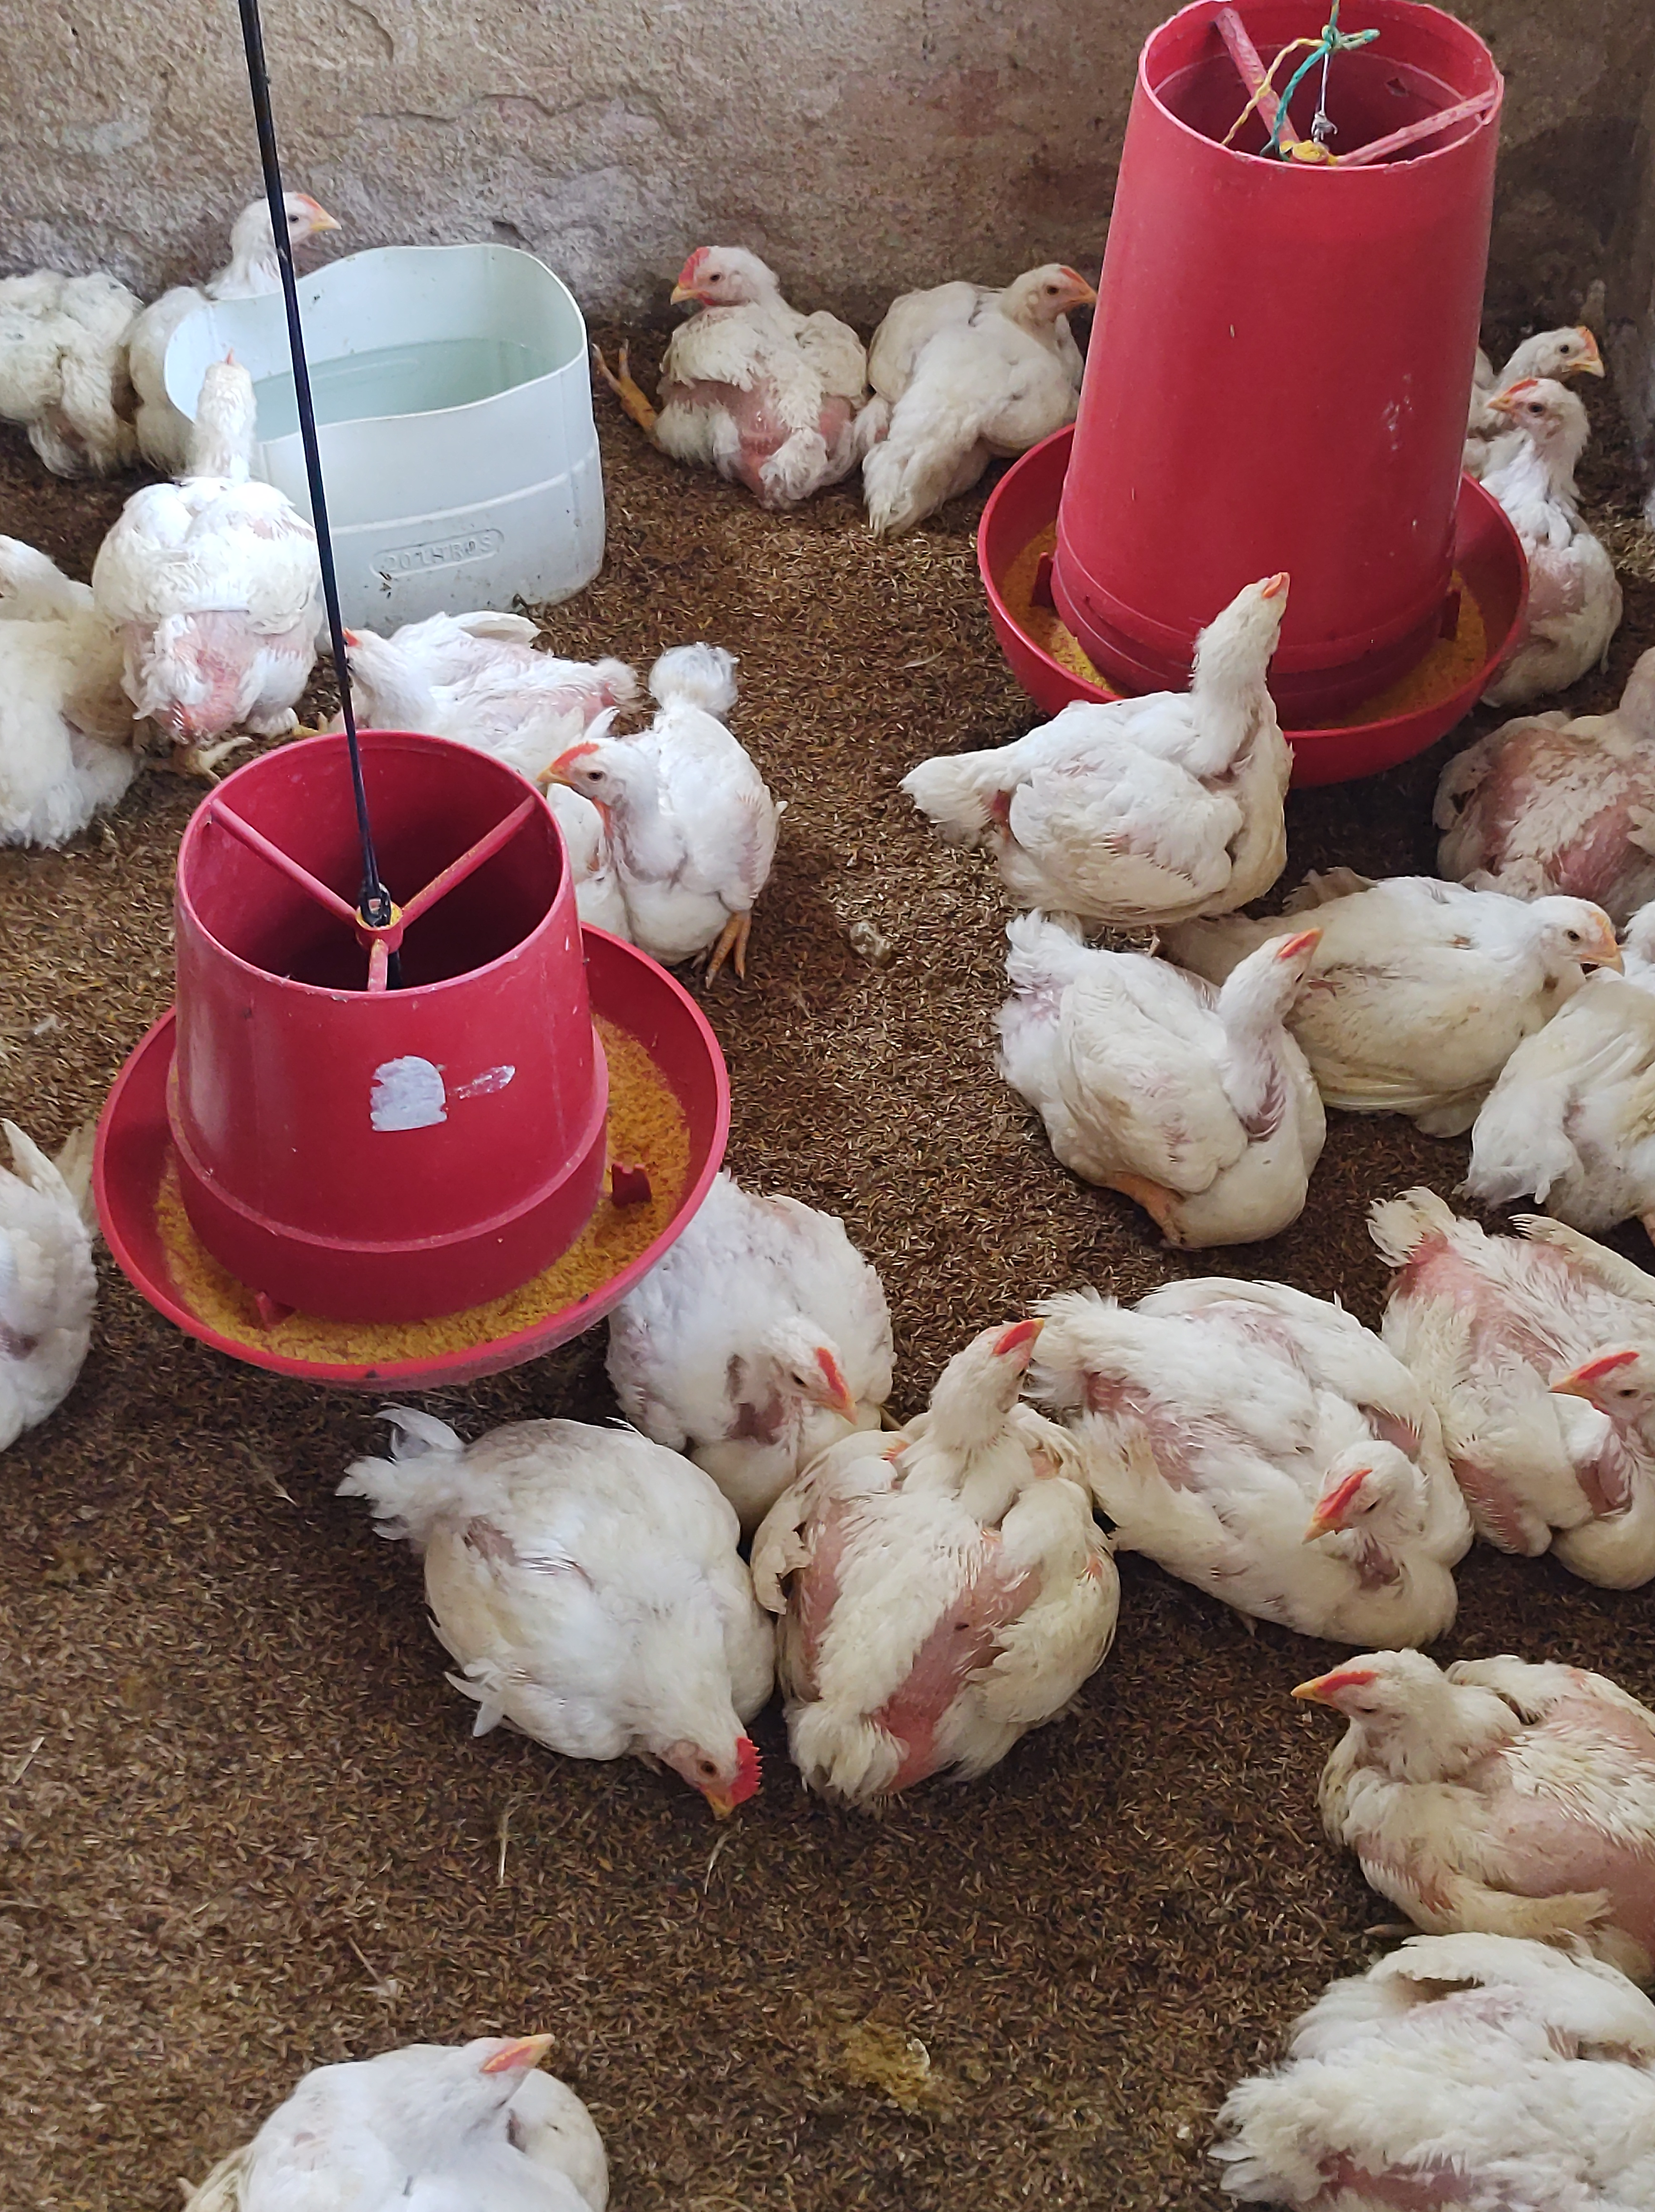Pollos: (356, 1329, 765, 1819), (779, 1334, 1137, 1843), (920, 553, 1326, 916), (1095, 1266, 1462, 1645), (1215, 1916, 1655, 2212), (987, 922, 1347, 1261), (1386, 1149, 1655, 1581), (866, 214, 1201, 523), (129, 2003, 624, 2212), (1307, 1616, 1655, 1902), (85, 350, 313, 767), (614, 1169, 925, 1461), (560, 602, 808, 965), (1351, 816, 1632, 1097), (1399, 358, 1643, 680), (337, 534, 624, 800), (643, 203, 871, 504), (0, 520, 177, 868), (1472, 932, 1655, 1203), (0, 1125, 120, 1480), (144, 155, 367, 339), (1502, 285, 1624, 393)
